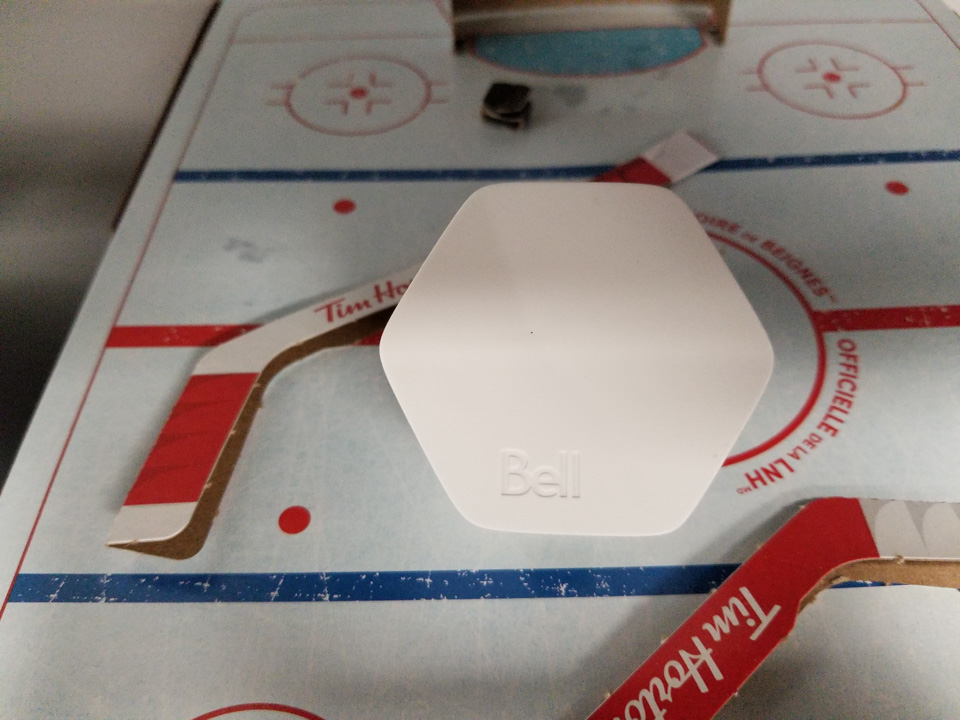pod: (374, 176, 782, 546)
